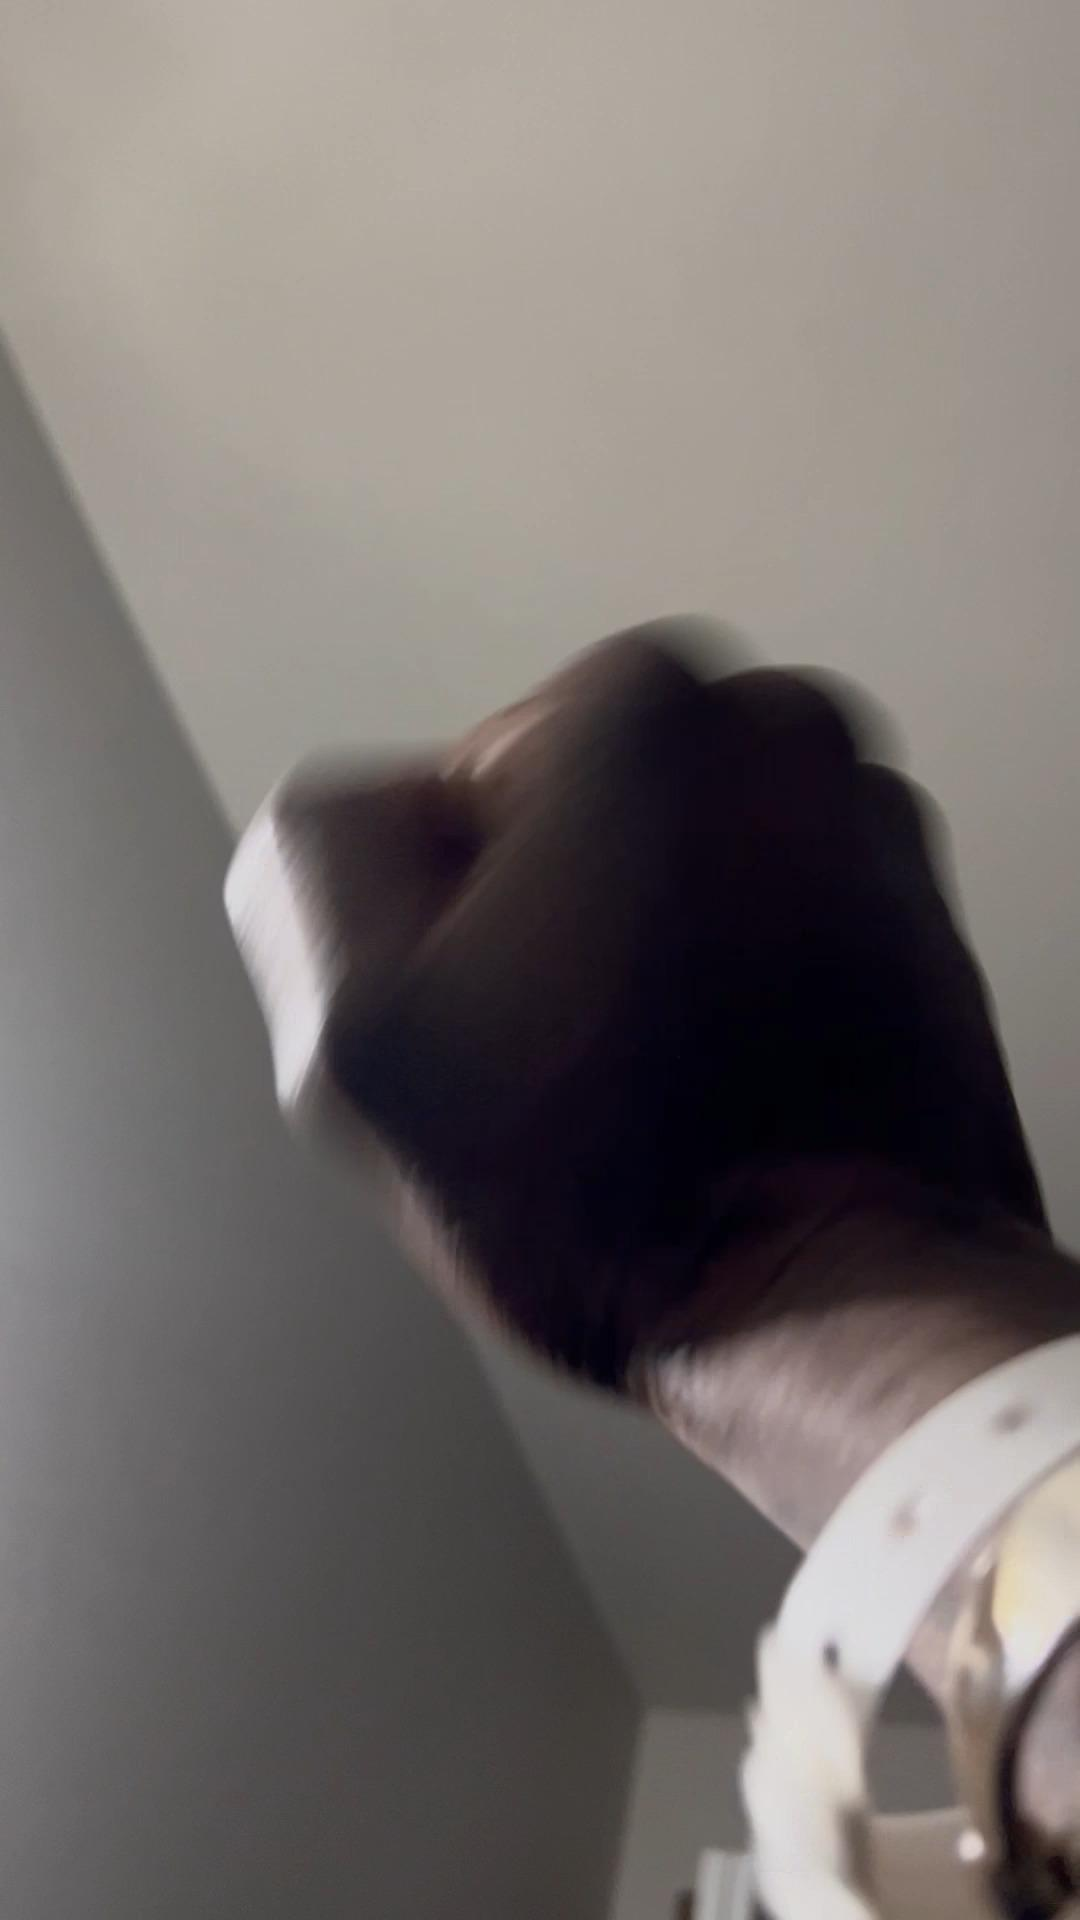Rock: (229, 607, 1051, 1396)
